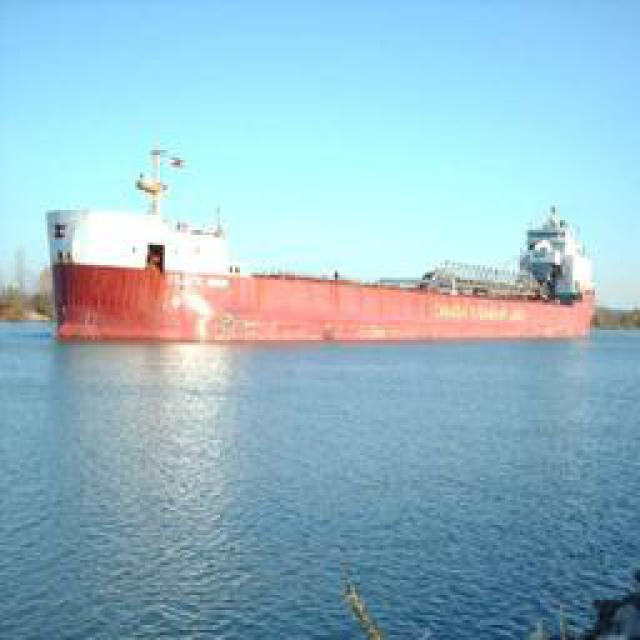Ship: (46, 201, 594, 349)
